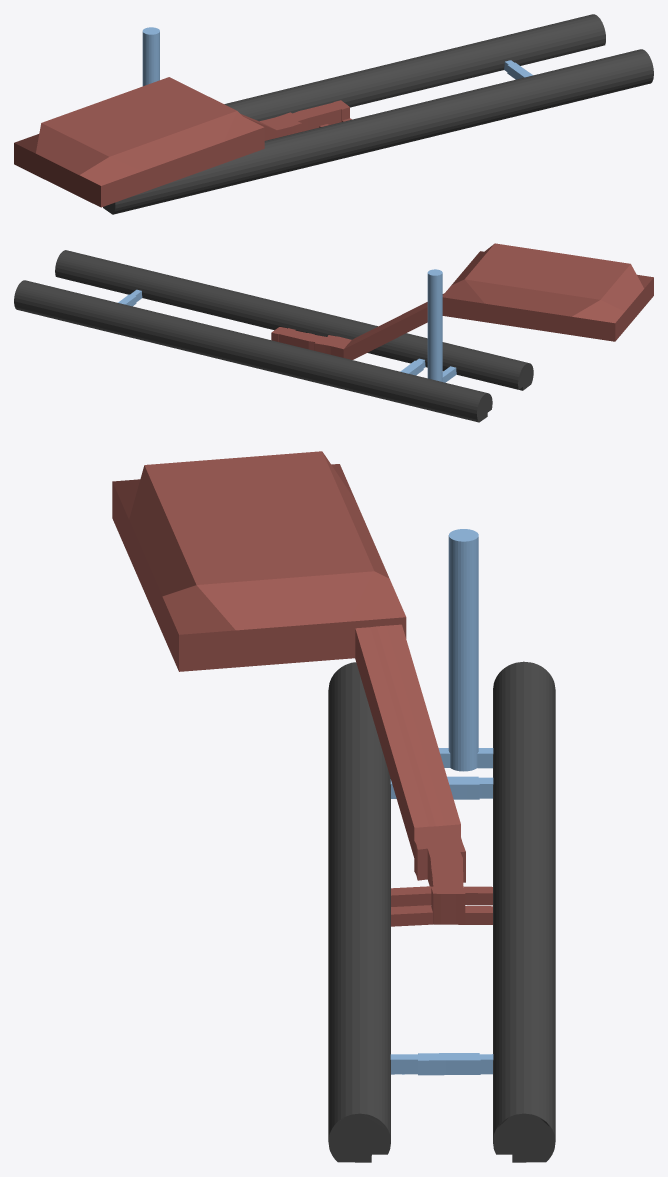
3 renders of one model, top to bottom at view 1: azimuth 30°, elevation 25°; view 2: azimuth 150°, elevation 25°; view 3: azimuth 270°, elevation 25°, orthographic. The views are drawn at different scales.
Parts seen in each view (by area): view 1: TicketHall, PLT1, PLT2, Concourse, 22, 32; view 2: PLT2, TicketHall, PLT1, 22, ESC, Concourse; view 3: TicketHall, PLT2, PLT1, ESC, 22, Concourse, 32, 43.
Boxes of the visible parts, <box> form: TicketHall: <box>14,77,264,207</box>; PLT1: <box>103,49,653,214</box>; PLT2: <box>224,14,605,121</box>; Concourse: <box>259,100,349,137</box>; 22: <box>142,27,159,86</box>; 32: <box>504,60,532,79</box>; PLT2: <box>14,280,492,422</box>; TicketHall: <box>442,243,653,341</box>; PLT1: <box>55,250,533,390</box>; 22: <box>427,269,456,382</box>; ESC: <box>343,293,444,359</box>; Concourse: <box>271,327,351,357</box>; TicketHall: <box>112,451,406,671</box>; PLT2: <box>493,661,555,1162</box>; PLT1: <box>328,662,390,1162</box>; ESC: <box>355,624,460,857</box>; 22: <box>438,529,493,771</box>; Concourse: <box>414,824,465,924</box>; 32: <box>390,1053,493,1075</box>; 43: <box>390,776,493,799</box>.
Size of the model in its own units: 186 by 38.67 by 65.05.
